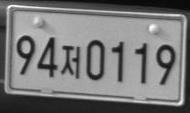0: (84, 38, 106, 81)
1: (108, 40, 129, 82), (131, 42, 152, 84)
4: (36, 36, 58, 78)
9: (14, 34, 36, 75), (154, 43, 176, 84)
저: (60, 44, 81, 79)
